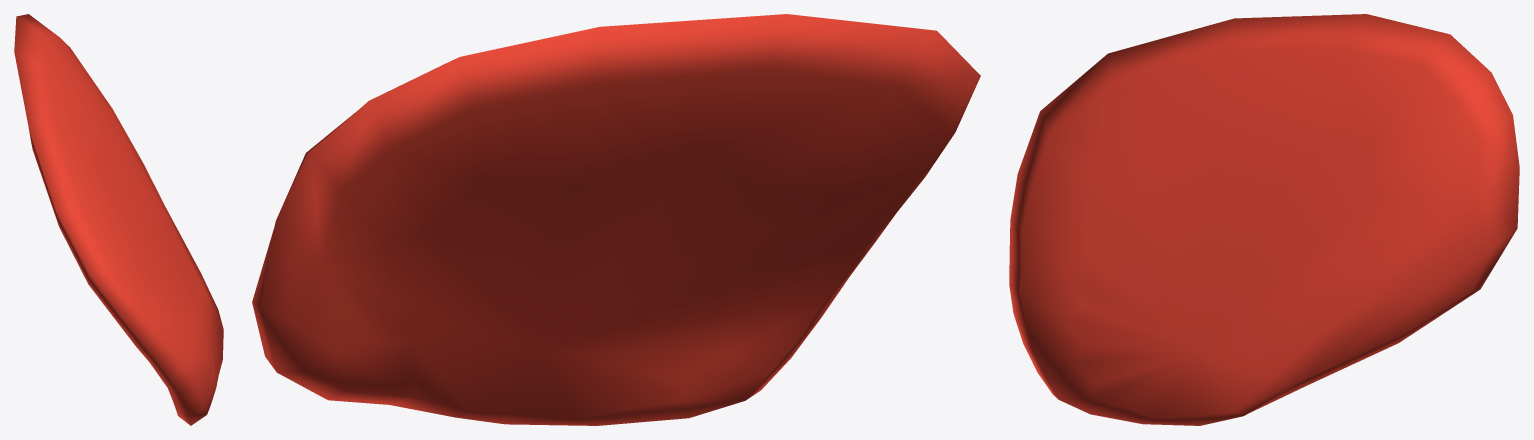
File: Adductor_hallucis_transverse_head_5th_metatarsal_right.glb
3 views of the same model, side by side, from view 1: azimuth 30°, elevation 25°; view 2: azimuth 150°, elevation 25°; view 3: azimuth 270°, elevation 25° (orthographic). The views are drawn at different scales.
Parts seen in each view (by area): view 1: Transverse_head_of_adductor_hallucis_on_5th_metatarsal_head.; view 2: Transverse_head_of_adductor_hallucis_on_5th_metatarsal_head.; view 3: Transverse_head_of_adductor_hallucis_on_5th_metatarsal_head..
Part boxes in pixels (x1,y1,x2,y2): Transverse_head_of_adductor_hallucis_on_5th_metatarsal_head.: (14, 14, 223, 425); Transverse_head_of_adductor_hallucis_on_5th_metatarsal_head.: (252, 14, 980, 425); Transverse_head_of_adductor_hallucis_on_5th_metatarsal_head.: (1009, 14, 1519, 425).
Bounding box in the file's own units: 0.00278 × 0.00368 × 0.00473.
